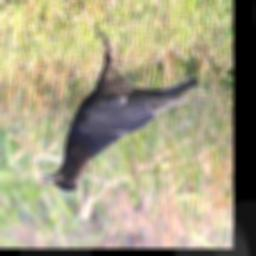Crow: (40, 25, 201, 194)
